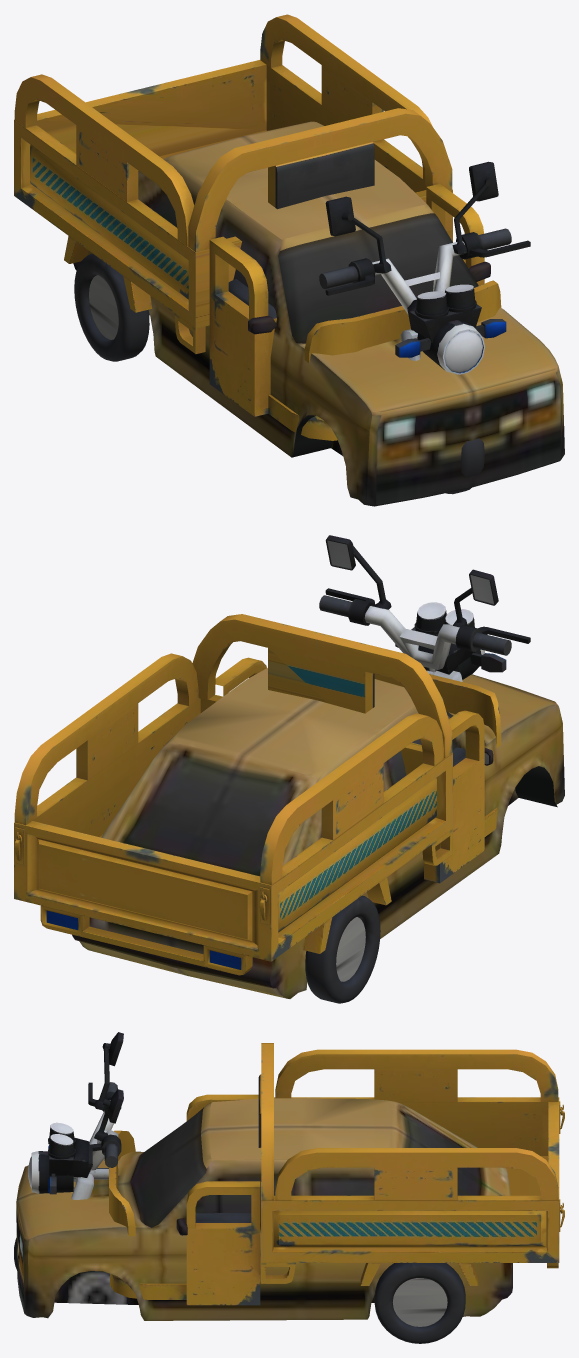
The model's file is n_tro1.glb.
3 renders of one model, top to bottom at view 1: azimuth 30°, elevation 25°; view 2: azimuth 150°, elevation 25°; view 3: azimuth 270°, elevation 25°, orthographic. The views are drawn at different scales.
Parts seen in each view (by area): view 1: moto_LP_moto_0_g1_0, Car_g8_0, Object003_g0_0, wheel_rr, wheel_fr; view 2: moto_LP_moto_0_g1_0, Car_g8_0, Object003_g0_0, wheel_rr; view 3: moto_LP_moto_0_g1_0, Car_g8_0, Object003_g0_0, wheel_rl.
Part boxes in pixels (bbox=[...]): moto_LP_moto_0_g1_0: bbox=[14, 14, 501, 440]; Car_g8_0: bbox=[73, 121, 564, 506]; Object003_g0_0: bbox=[319, 161, 530, 374]; wheel_rr: bbox=[74, 253, 149, 361]; wheel_fr: bbox=[446, 438, 484, 494]; moto_LP_moto_0_g1_0: bbox=[14, 614, 501, 975]; Car_g8_0: bbox=[72, 668, 564, 998]; Object003_g0_0: bbox=[319, 535, 530, 681]; wheel_rr: bbox=[305, 895, 380, 1003]; moto_LP_moto_0_g1_0: bbox=[73, 1043, 564, 1305]; Car_g8_0: bbox=[16, 1098, 512, 1320]; Object003_g0_0: bbox=[28, 1032, 123, 1199]; wheel_rl: bbox=[374, 1263, 465, 1343].
Size of the model in its own units: 1.8 by 1.88 by 4.07.
3 materials, 2 textured.
